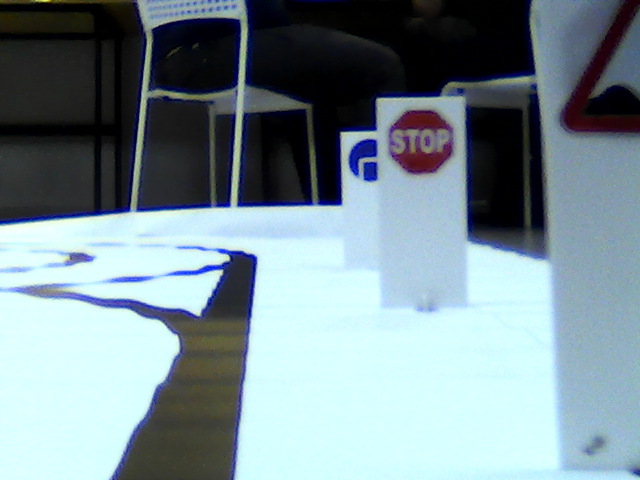Nerov: (560, 2, 640, 137)
Right: (350, 137, 379, 182)
Stop: (385, 104, 457, 176)
